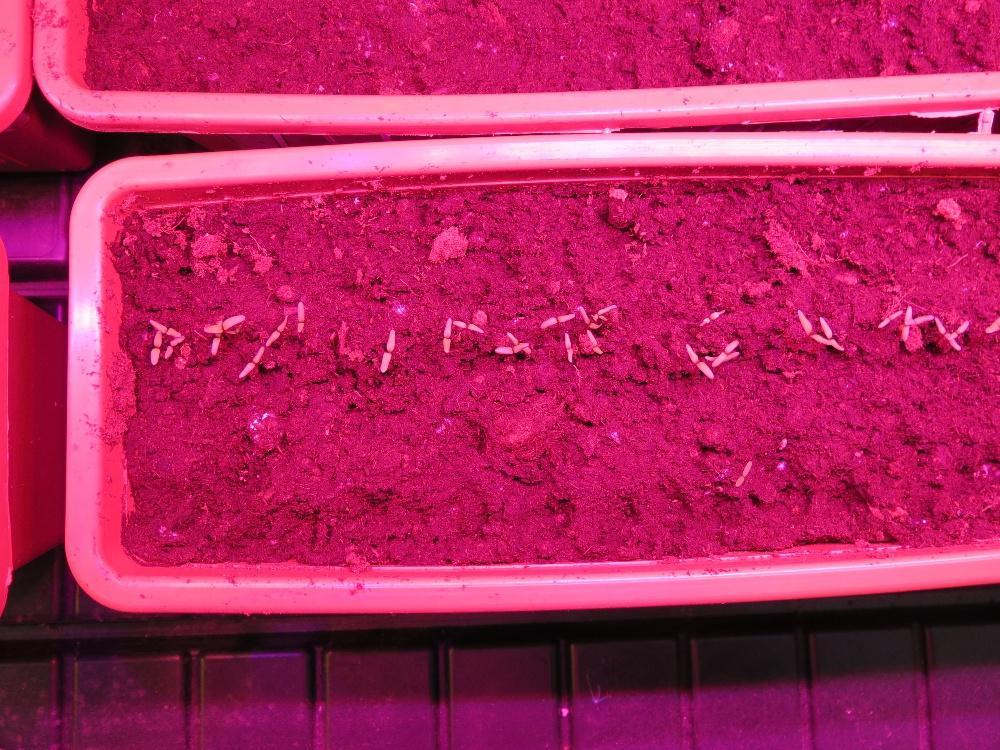crop: (237, 344, 264, 379), (264, 311, 288, 346), (378, 326, 395, 374), (537, 310, 574, 329), (876, 306, 903, 328), (450, 317, 484, 333), (698, 306, 725, 326), (440, 314, 451, 354), (562, 330, 573, 364), (294, 297, 304, 334)
weed: (733, 457, 751, 488)
